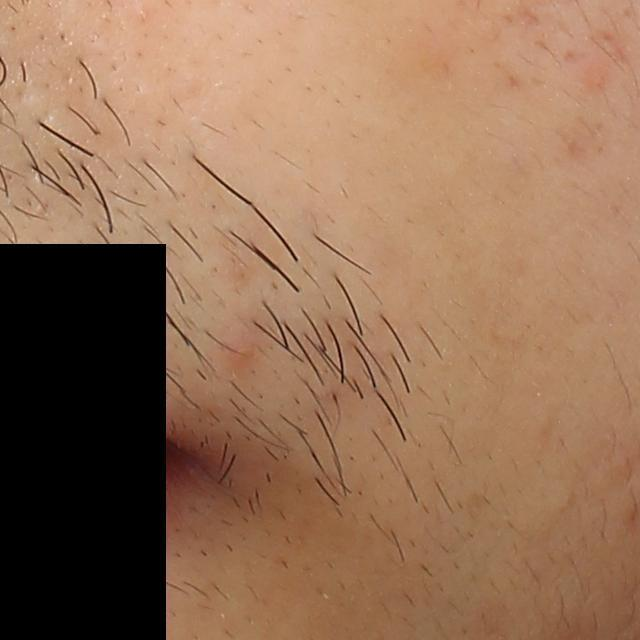papule: (230, 330, 262, 370)
